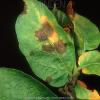Potato leaf early blight: (15, 0, 77, 88)
